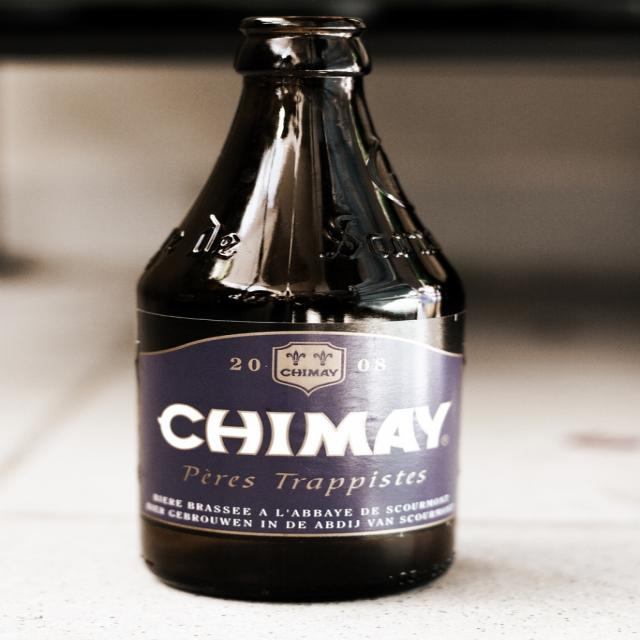chimay: (136, 331, 467, 537)
